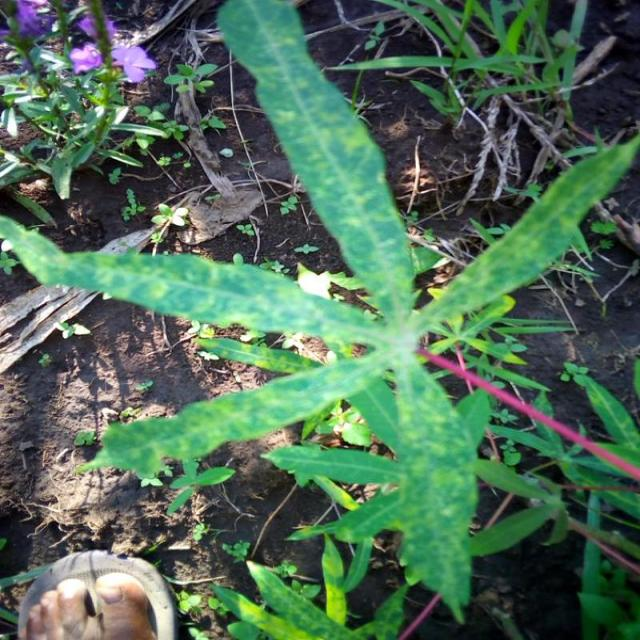cassava leaf: (1, 0, 638, 626)
